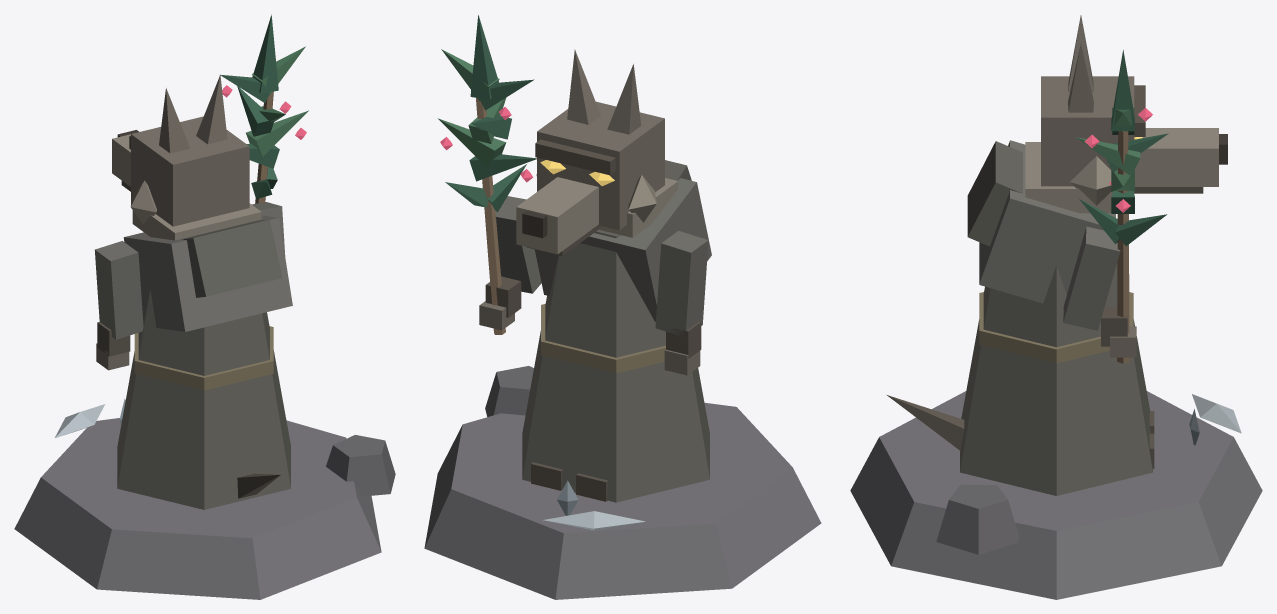
The model's file is wulver.glb.
3 renders of one model, left to right at view 1: azimuth 30°, elevation 25°; view 2: azimuth 150°, elevation 25°; view 3: azimuth 270°, elevation 25°, orthographic. The views are drawn at different scales.
Parts seen in each view (by area): view 1: mesh_body, mesh_rock, mesh_head, mesh_branch, mesh_arm_l, mesh_fish; view 2: mesh_rock, mesh_body, mesh_head, mesh_branch, mesh_arm_l, mesh_arm_r, mesh_fish; view 3: mesh_rock, mesh_body, mesh_head, mesh_branch, mesh_arm_r, mesh_fish.
Part boxes in pixels (x1,y1,x2,y2): mesh_body: [117, 203, 292, 509]; mesh_rock: [14, 418, 395, 599]; mesh_head: [112, 75, 249, 226]; mesh_branch: [220, 14, 308, 203]; mesh_arm_l: [94, 241, 143, 370]; mesh_fish: [55, 398, 125, 437]; mesh_rock: [424, 366, 821, 599]; mesh_body: [522, 160, 711, 502]; mesh_head: [516, 49, 664, 255]; mesh_branch: [438, 15, 536, 334]; mesh_arm_l: [655, 230, 708, 375]; mesh_arm_r: [479, 196, 541, 330]; mesh_fish: [543, 480, 645, 530]; mesh_rock: [850, 391, 1262, 599]; mesh_body: [887, 140, 1154, 495]; mesh_head: [1041, 15, 1227, 205]; mesh_branch: [1076, 50, 1168, 363]; mesh_arm_r: [1063, 226, 1136, 357]; mesh_fish: [1189, 394, 1241, 445].
Size of the model in its own units: 1.81 by 2.55 by 1.85.
